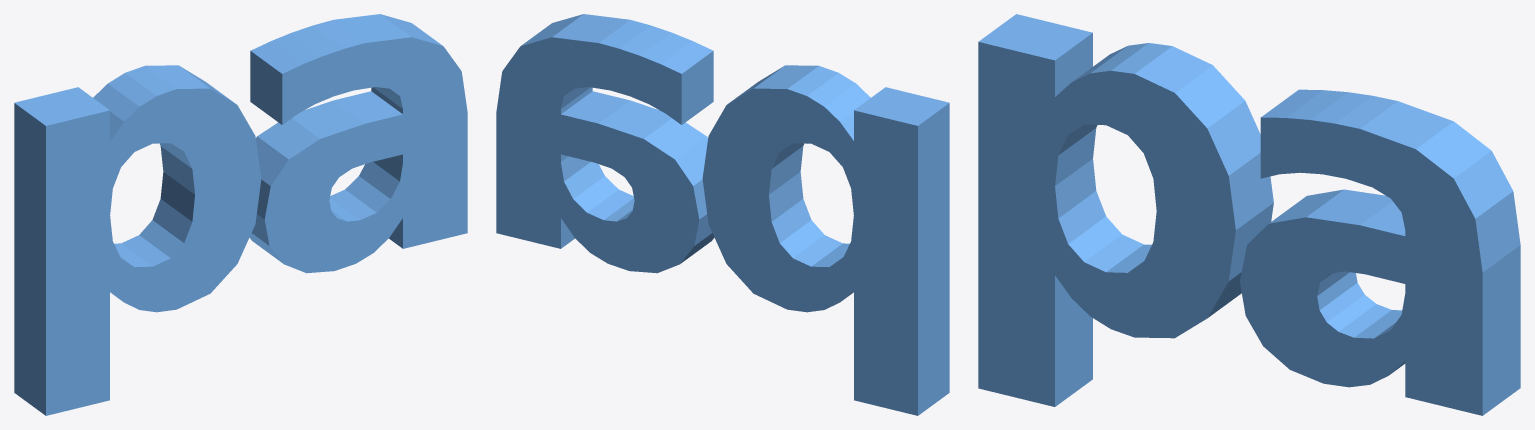
Rendered from suku_kecil_pa.glb.
3 renders of one model, left to right at view 1: azimuth 30°, elevation 25°; view 2: azimuth 150°, elevation 25°; view 3: azimuth 330°, elevation 25°, orthographic. The views are drawn at different scales.
Parts seen in each view (by area): view 1: geometry_0; view 2: geometry_0; view 3: geometry_0.
Part boxes in pixels (x1,y1,x2,y2): geometry_0: (14, 14, 467, 415); geometry_0: (496, 14, 949, 415); geometry_0: (978, 14, 1520, 415).
Bounding box in the file's own units: 11.49 × 7.68 × 1.5.
